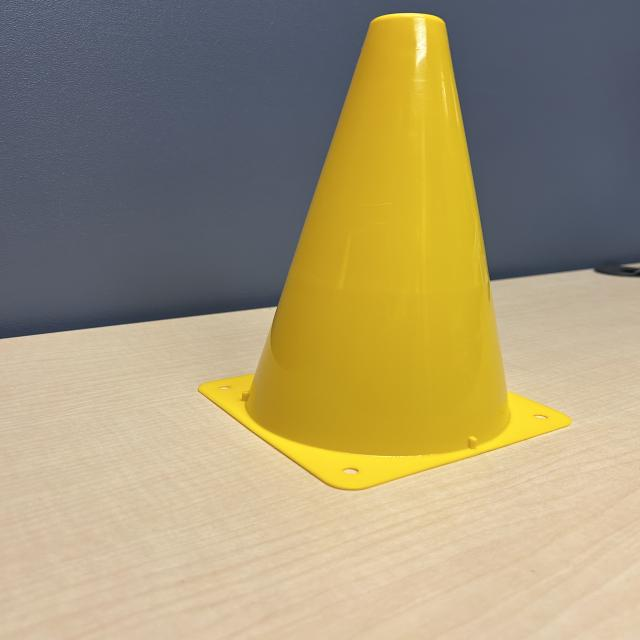yellow cone: (194, 9, 581, 490)
